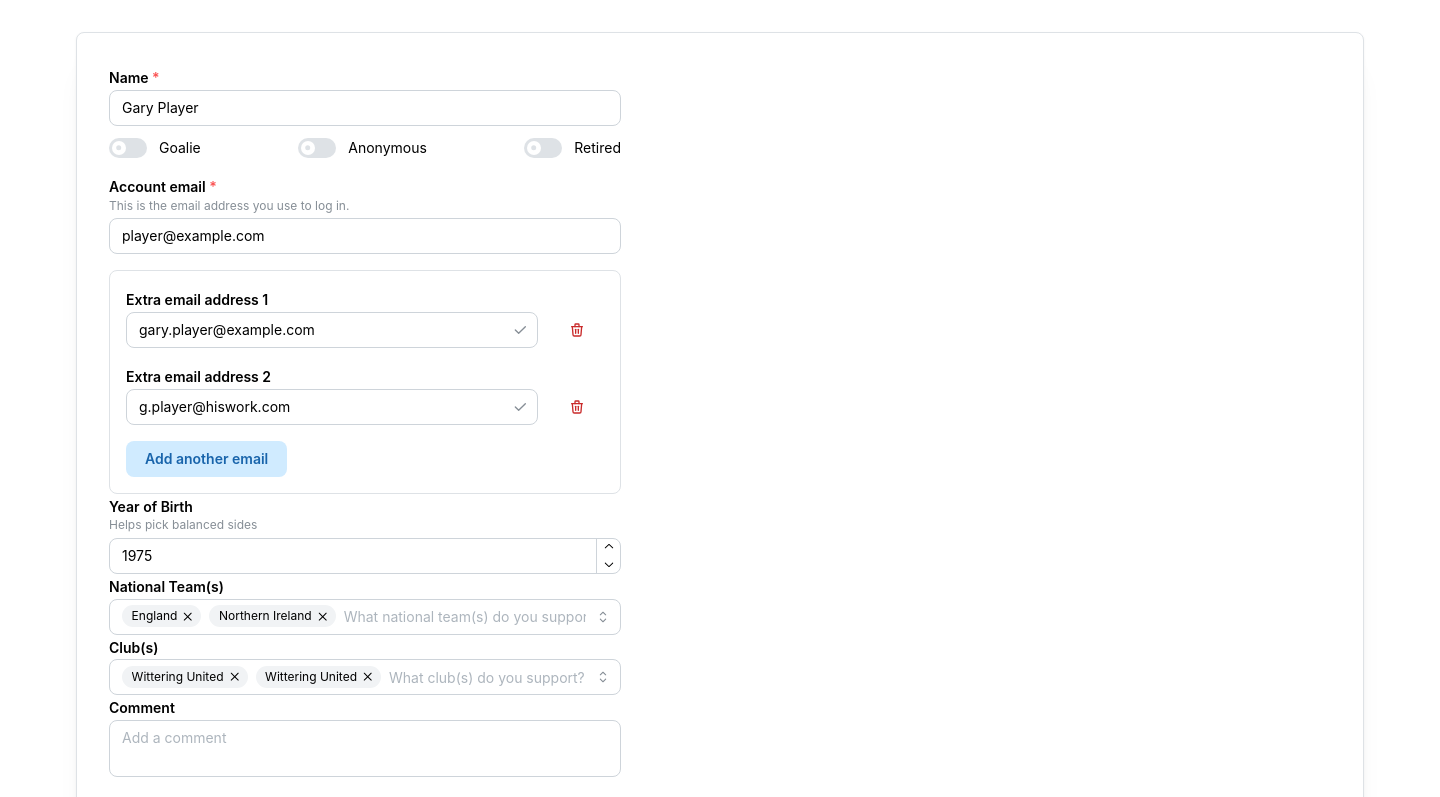
PlayerProfileForm › adds a new extra email input when the add button is clicked
The width and height of the screenshot is (1440, 797).
Expected: the field labelled "Extra email address 2" is shown, x1=126 y1=389 x2=538 y2=425
Expected: the field labelled "extra email address 3" is not shown
Click the button "Add another email": (207, 459) x1=126 y1=441 x2=287 y2=477
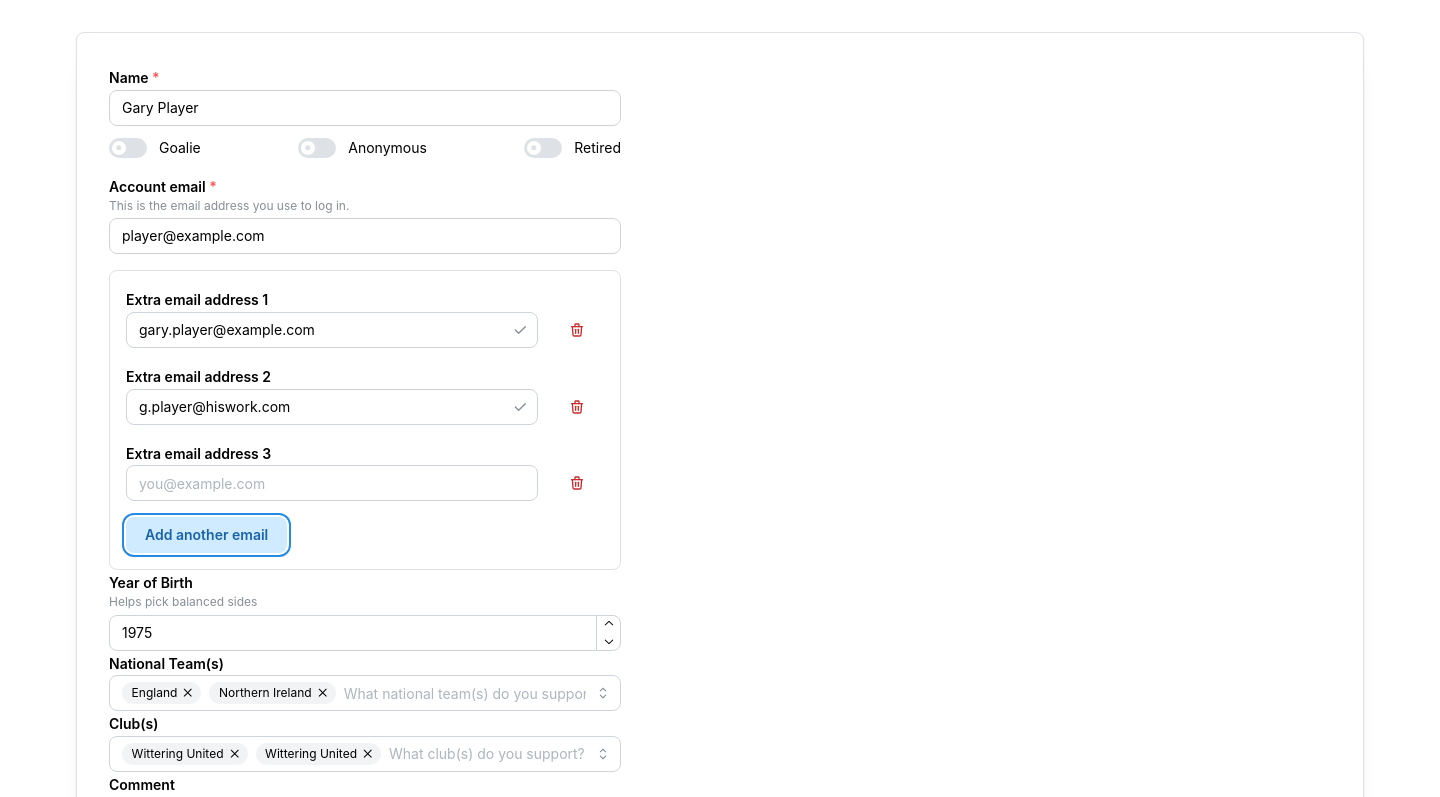
Expected: the field labelled "Extra email address 3" is shown, x1=126 y1=465 x2=538 y2=501
